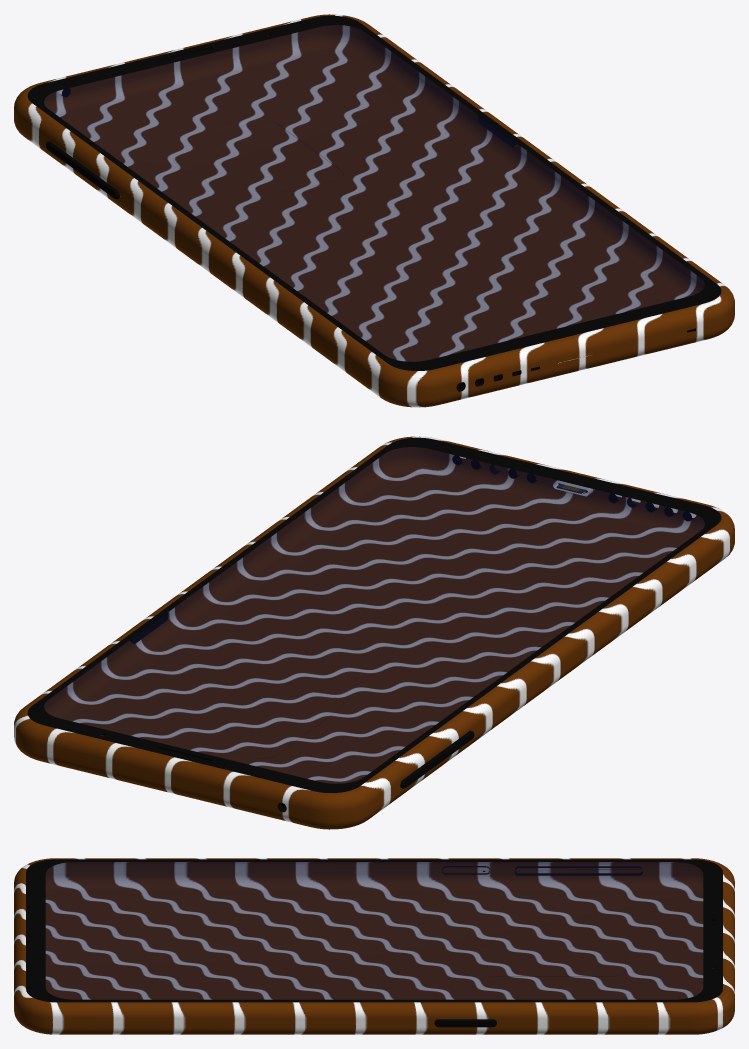
File: Smartphone_L.fbx
The picture shows the model from 3 angles, top to bottom: view 1: azimuth 30°, elevation 25°; view 2: azimuth 150°, elevation 25°; view 3: azimuth 270°, elevation 25°; orthographic projection. The views are drawn at different scales.
Visible parts, largest first — view 1: Smartphone_L; view 2: Smartphone_L; view 3: Smartphone_L.
Part boxes in pixels (<box>): Smartphone_L: <box>14,14,734,407</box>; Smartphone_L: <box>14,436,734,829</box>; Smartphone_L: <box>14,858,734,1034</box>.
Bounding box in the file's own units: 0.161 × 0.3151 × 0.0166.
